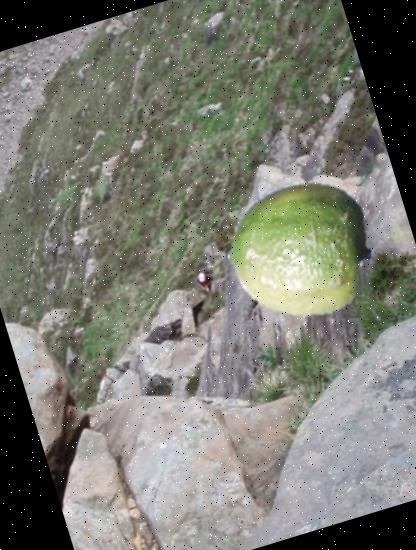Limes: (210, 159, 390, 338)
